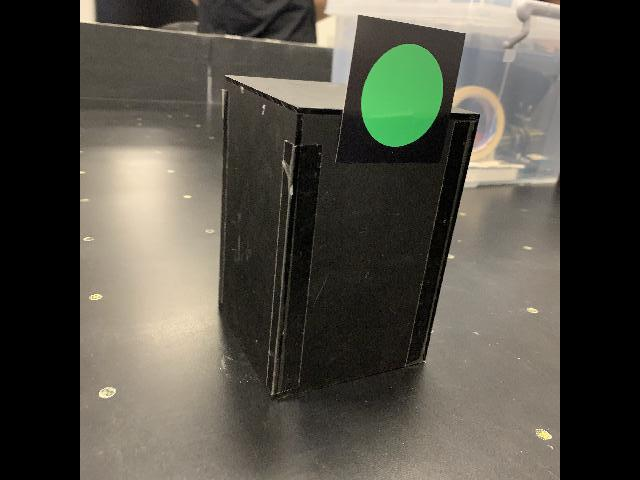go: (331, 14, 467, 166)
